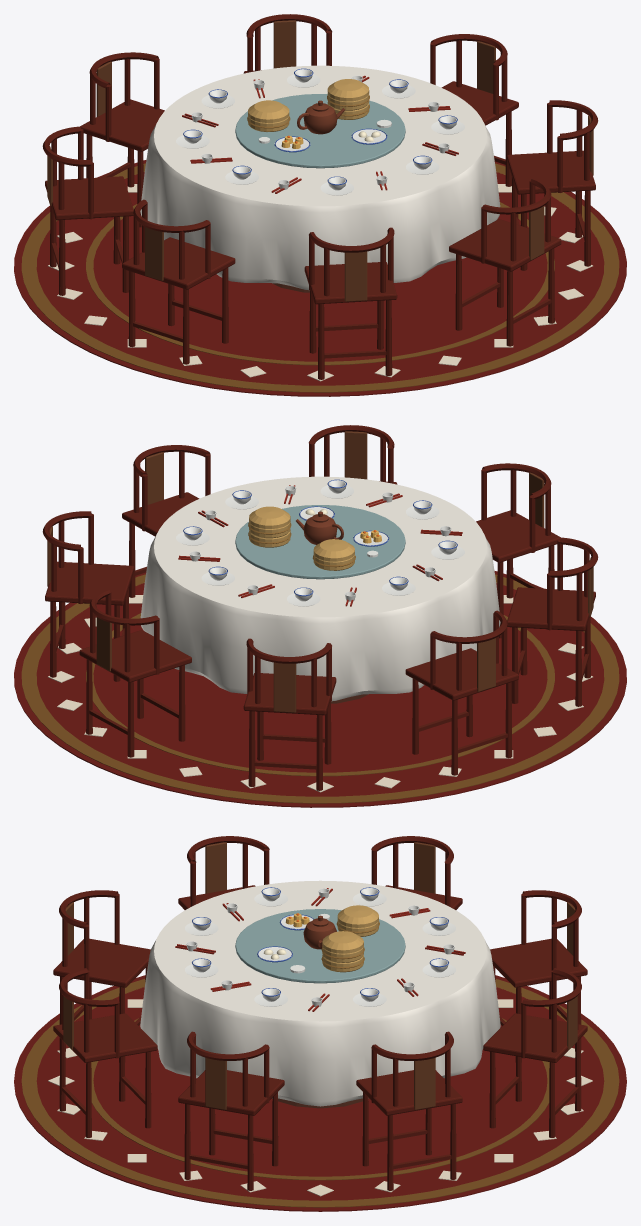
The model's file is table_set.glb.
3 views of the same model, one above another, from view 1: azimuth 30°, elevation 25°; view 2: azimuth 150°, elevation 25°; view 3: azimuth 270°, elevation 25° (orthographic).
Visible parts, largest first — view 1: table_set; view 2: table_set; view 3: table_set.
Part boxes in pixels (x1,y1,x2,y2): table_set: (14,14,626,396); table_set: (14,425,626,807); table_set: (14,836,626,1211).
Size of the model in its own units: 3.24 by 0.97 by 3.24.
